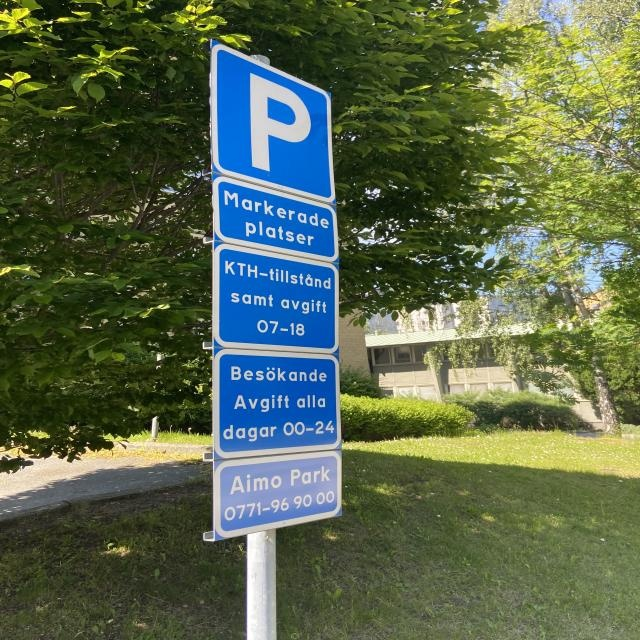P-skylt: (202, 34, 350, 203)
